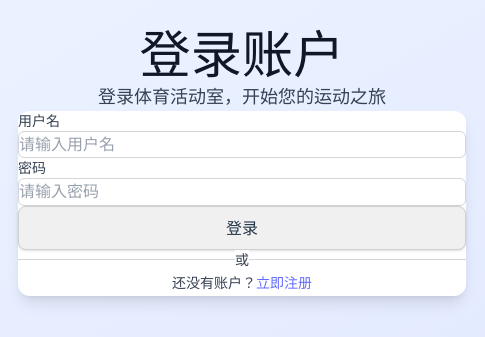
LoginPage › should handle login failure
This screenshot has width=485, height=337.
Type "wronguser" into the field labelled "用户名" at (242, 145), box [18,131,466,158]
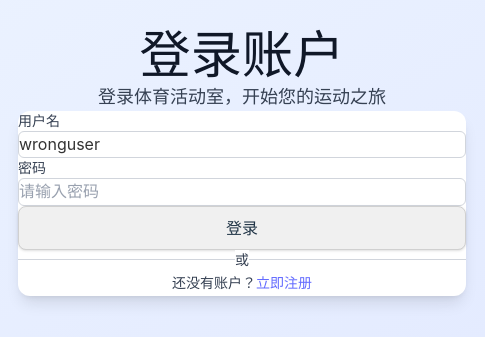
Type "wrongpass" into the password field labelled "密码" at (242, 192), box [18,178,466,206]
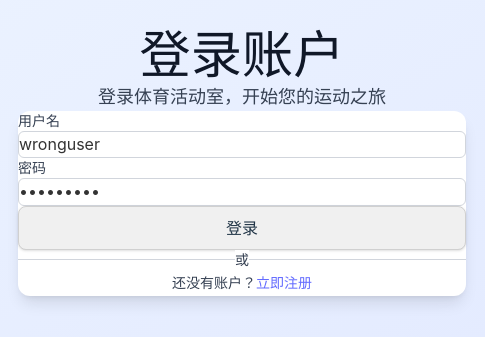
Click the button "登录" at (242, 228), box [18,206,466,250]
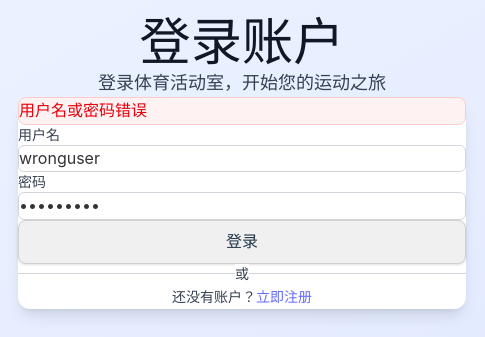
Result: the text "用户名或密码错误" is shown at [18,97,466,125]
